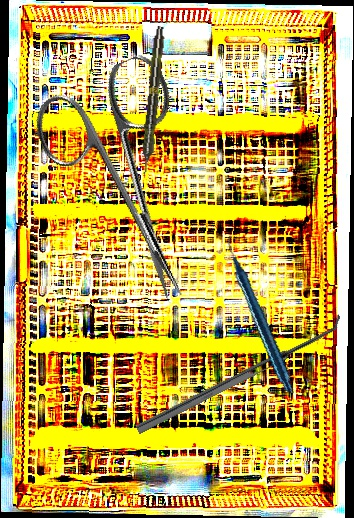Handpiece: (195, 234, 328, 394), (138, 25, 167, 176)
Iris Scissors: (24, 49, 242, 323)
Spatula Surgical: (130, 311, 347, 435)
